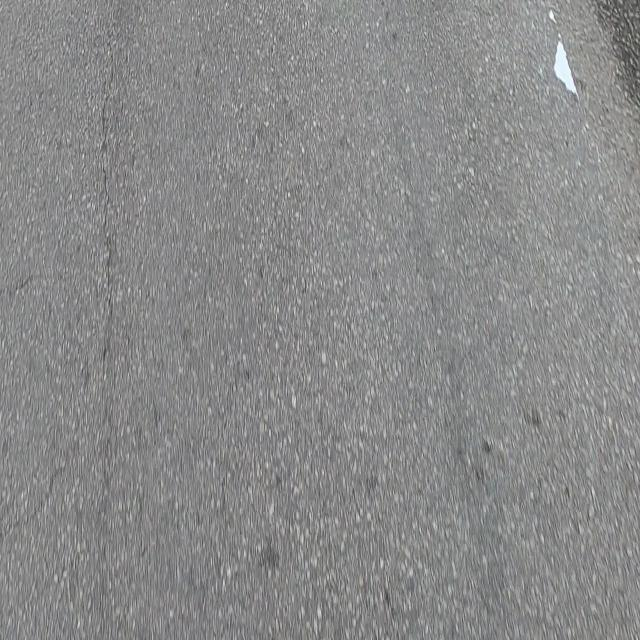Retak-Memanjang: (99, 41, 116, 318)
